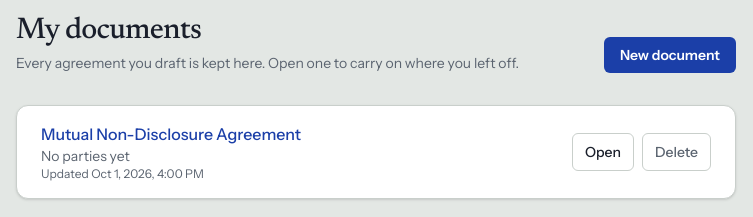
it: DocumentList › keeps a document the user decides not to delete
Click the button with aria-label "Delete Mutual Non-Disclosure Agreement" at (676, 152), box [642, 133, 711, 171]
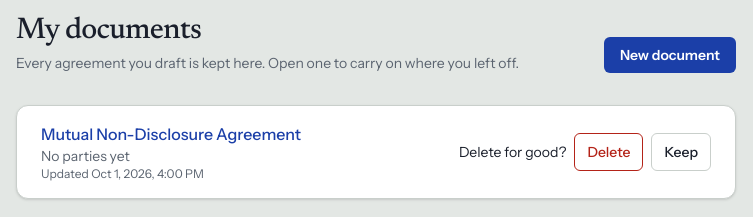
Click the button "Keep" at (681, 152), box [651, 133, 711, 171]
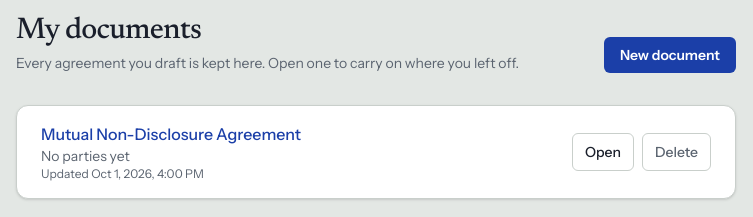
Check: the list item "Delete for good? Delete Keep" no longer shows "Delete for good?"
Check: the link "Open" is shown, box [572, 133, 634, 171]
